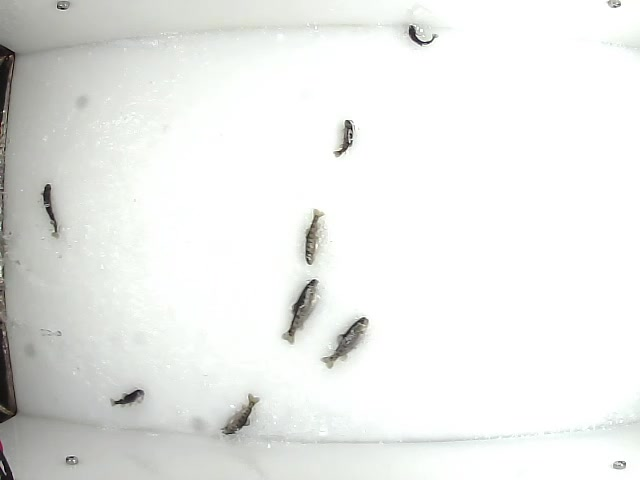fish: (317, 317, 370, 372), (281, 276, 320, 347), (217, 390, 259, 436), (301, 204, 330, 270), (38, 181, 62, 239), (331, 115, 356, 158), (106, 386, 146, 411), (404, 21, 437, 47)
